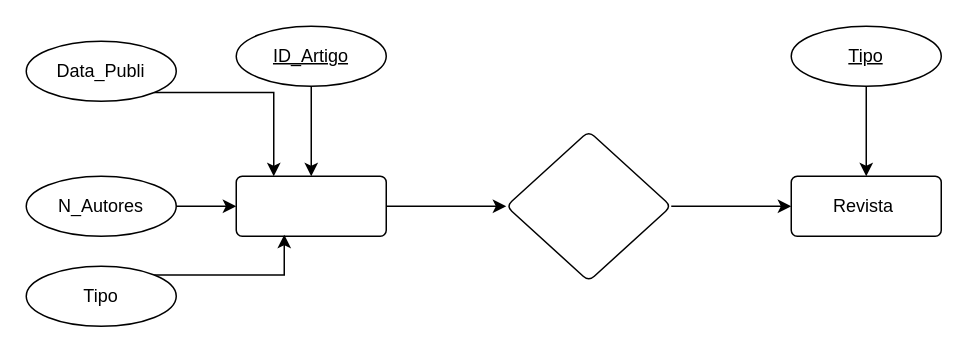
Some shapes in this 968 by 353 pixel diagram are drawn without their labels. The centre of each missing label's shape, as x and y in pixels:
"Artigo" belongs at pixel 310 205.
"é armazenado" belongs at pixel 588 205.
